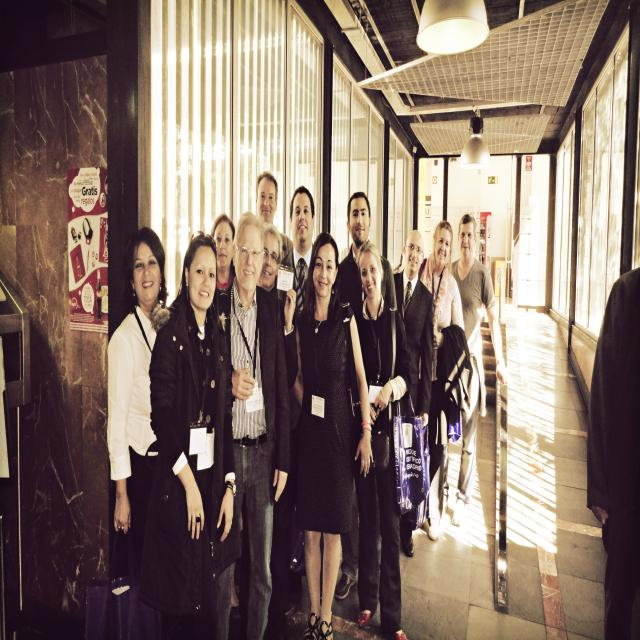body: (152, 211, 292, 640), (148, 228, 241, 640), (292, 230, 376, 639), (342, 240, 417, 640), (334, 191, 398, 601), (106, 226, 166, 582), (584, 264, 640, 638), (447, 213, 507, 527), (417, 218, 473, 544), (393, 228, 436, 556), (257, 223, 301, 392), (255, 169, 296, 306), (277, 185, 315, 322), (209, 212, 238, 361)
